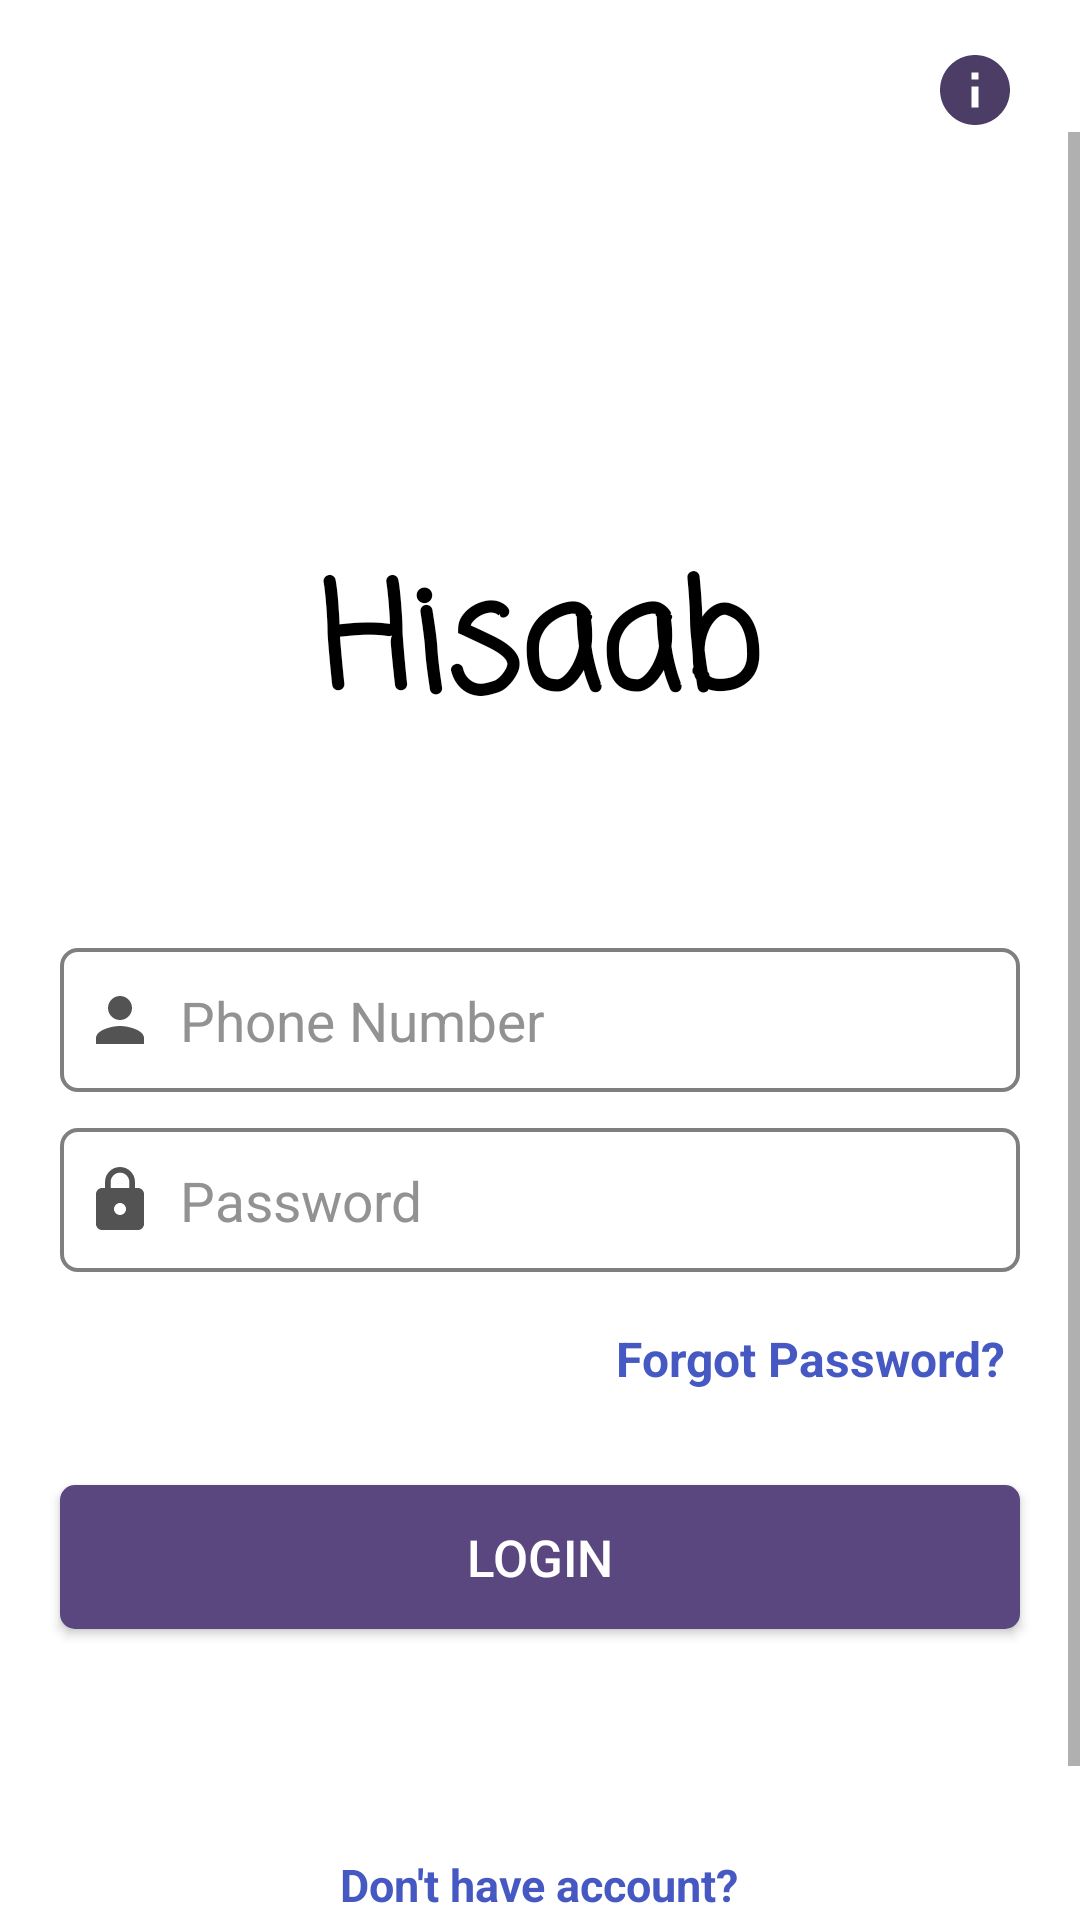

Icons on this 1080x1920 Android screen, each with its box as (x1, y1, x2, y2):
info: (940, 55, 1010, 125)
